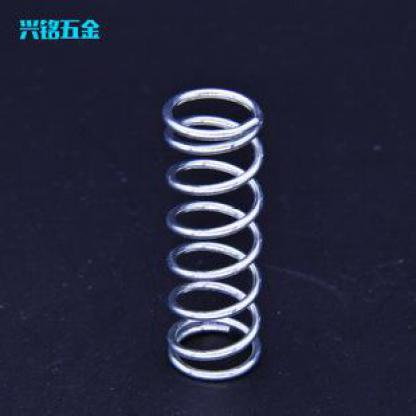FOD: (156, 86, 270, 385)
